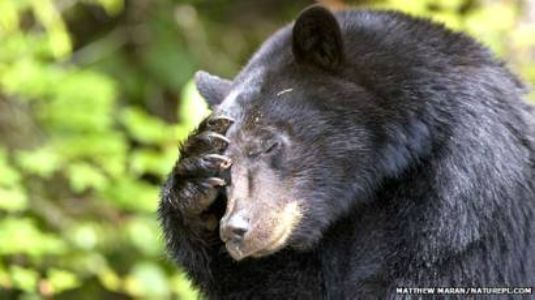bear: (162, 3, 530, 292)
